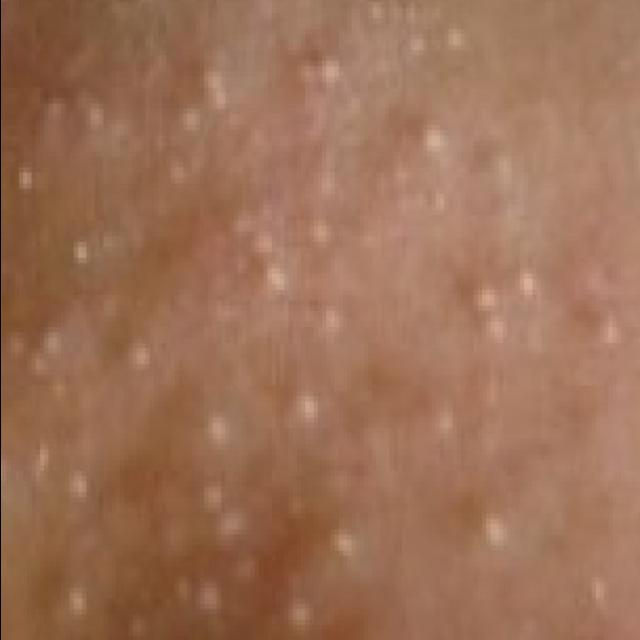whitehead: (11, 38, 614, 626)
